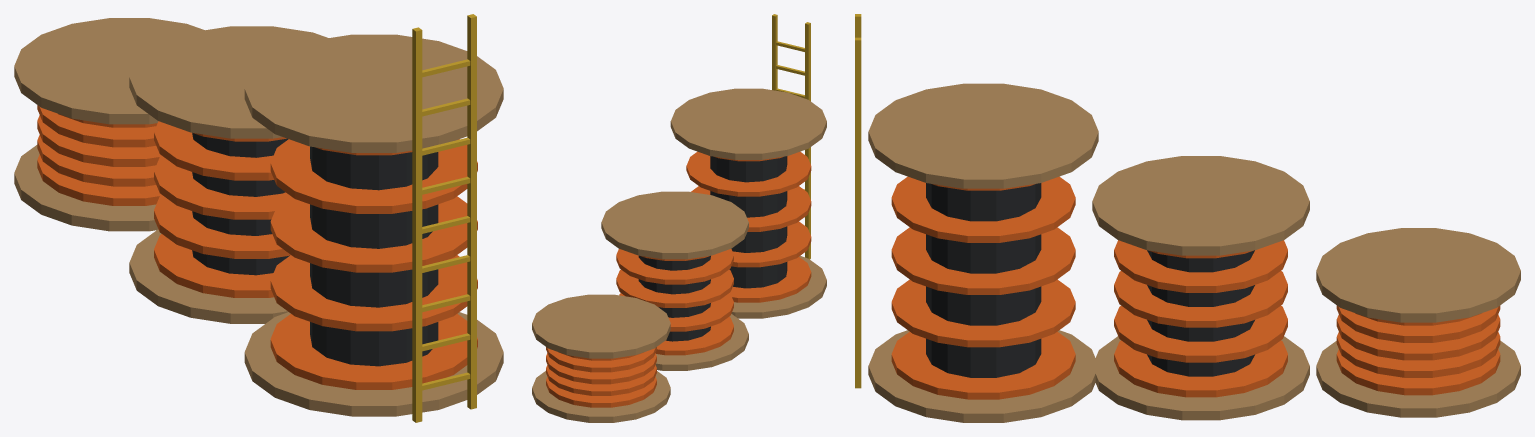
The model's file is cable_spools.glb.
3 views of the same model, side by side, from view 1: azimuth 30°, elevation 25°; view 2: azimuth 150°, elevation 25°; view 3: azimuth 270°, elevation 25° (orthographic). The views are drawn at different scales.
Parts seen in each view (by area): view 1: cable_spools; view 2: cable_spools; view 3: cable_spools.
Part boxes in pixels (x1=…): cable_spools: x1=14, y1=14, x2=503, y2=422; cable_spools: x1=532, y1=14, x2=826, y2=422; cable_spools: x1=855, y1=14, x2=1520, y2=422.
Size of the model in its own units: 1.77 by 3 by 5.21.
